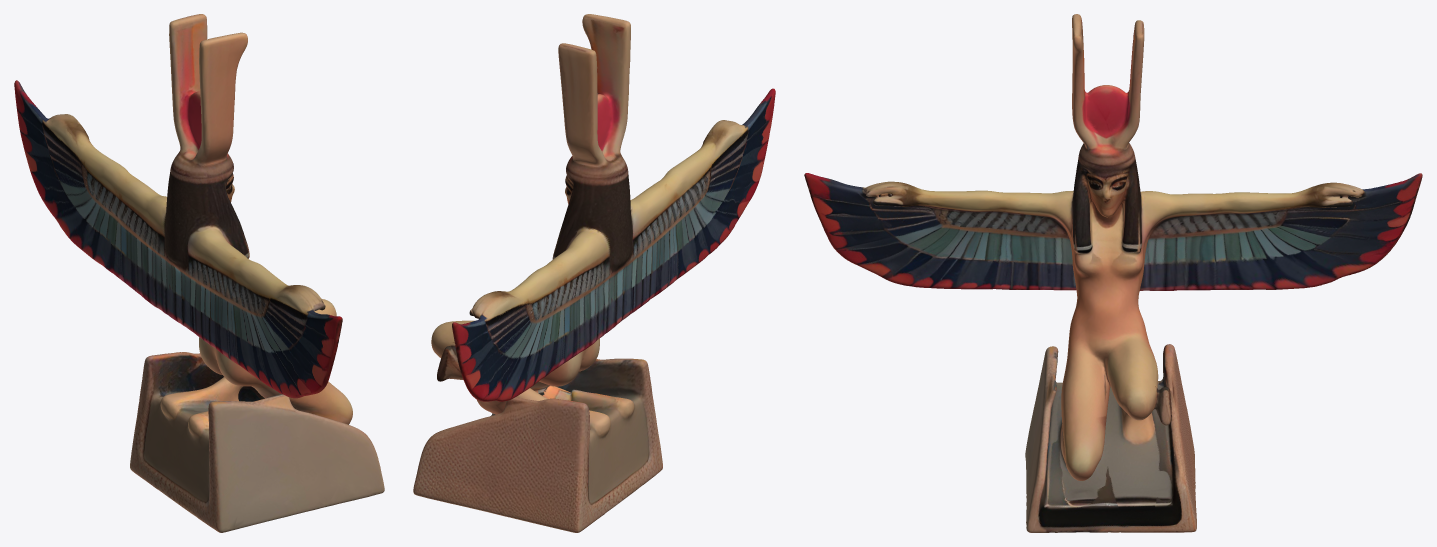
File: egyptian_winged_statue.glb
3 renders of one model, left to right at view 1: azimuth 30°, elevation 25°; view 2: azimuth 150°, elevation 25°; view 3: azimuth 270°, elevation 25°, orthographic. The views are drawn at different scales.
Visible parts, largest first — view 1: Object_4; view 2: Object_4; view 3: Object_4.
Part boxes in pixels (box(x1,y1,x2,y2)): Object_4: box(14, 14, 384, 532); Object_4: box(413, 14, 775, 532); Object_4: box(804, 14, 1422, 532).
Bounding box in the file's own units: 0.3007 × 0.7551 × 0.9442.
1 material, 1 textured.
